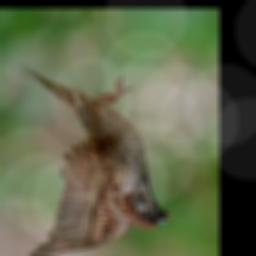Sparrow: (19, 66, 172, 256)
